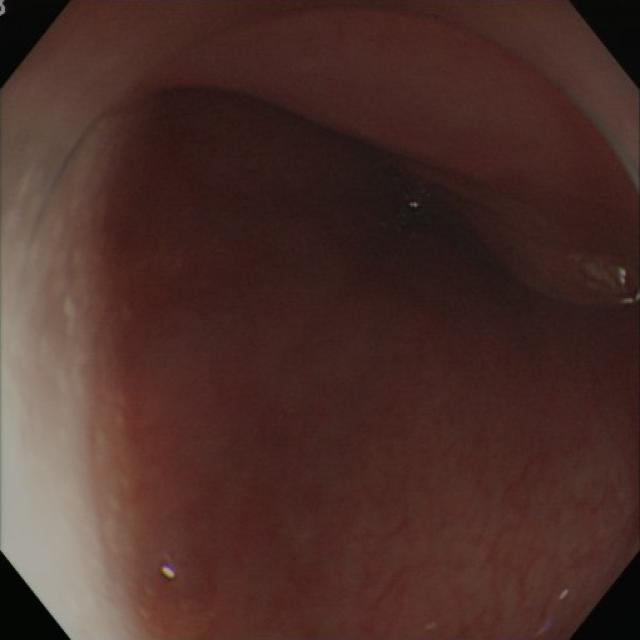T: (579, 256, 640, 310)
U: (160, 564, 180, 585), (560, 586, 570, 602), (409, 199, 421, 211)
